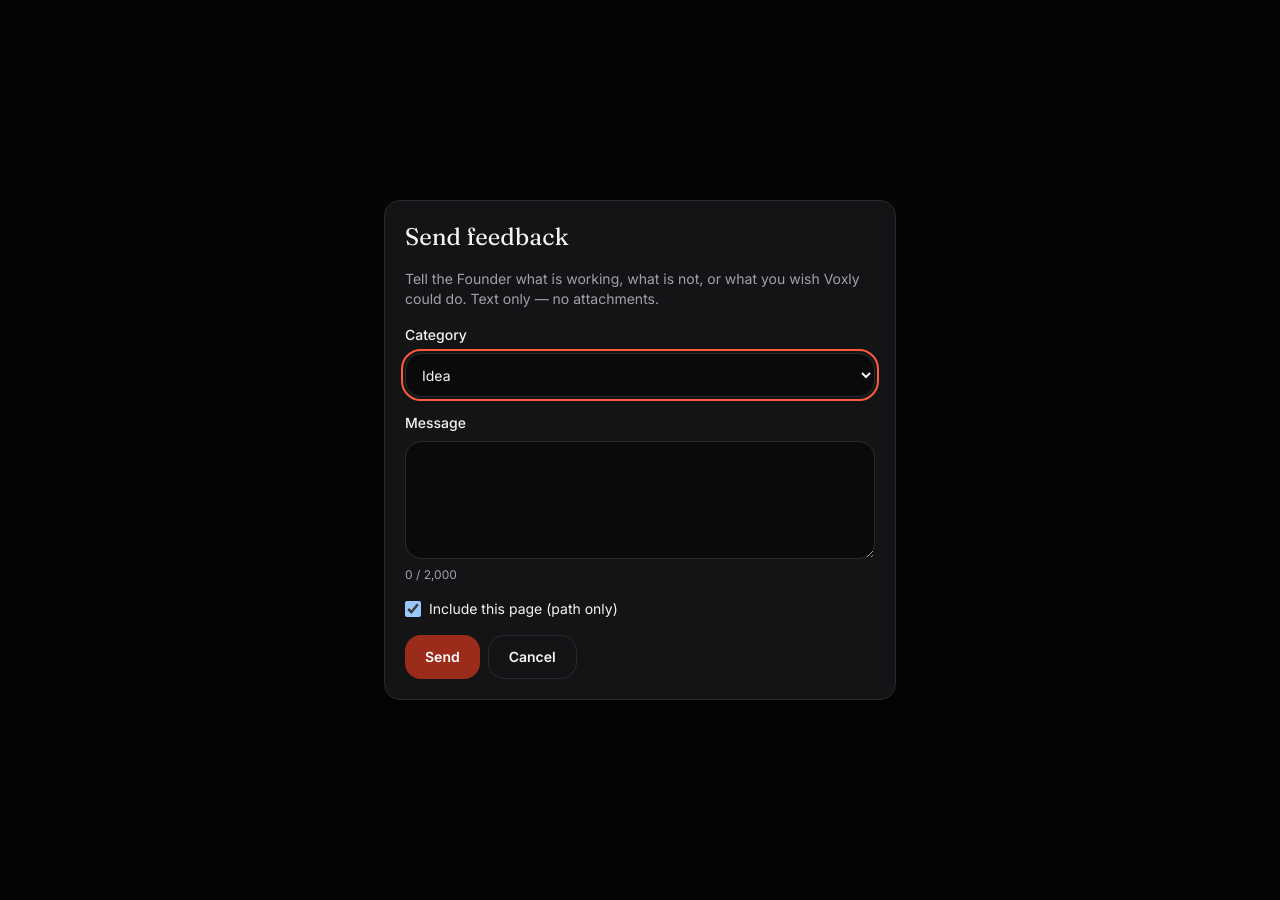
Test: FeedbackModal › shows validation for a 9-character message
Type "123456789" into the text box with test id "feedback-message".
click(640, 500); type("123456789")  # box [405,441,875,559]
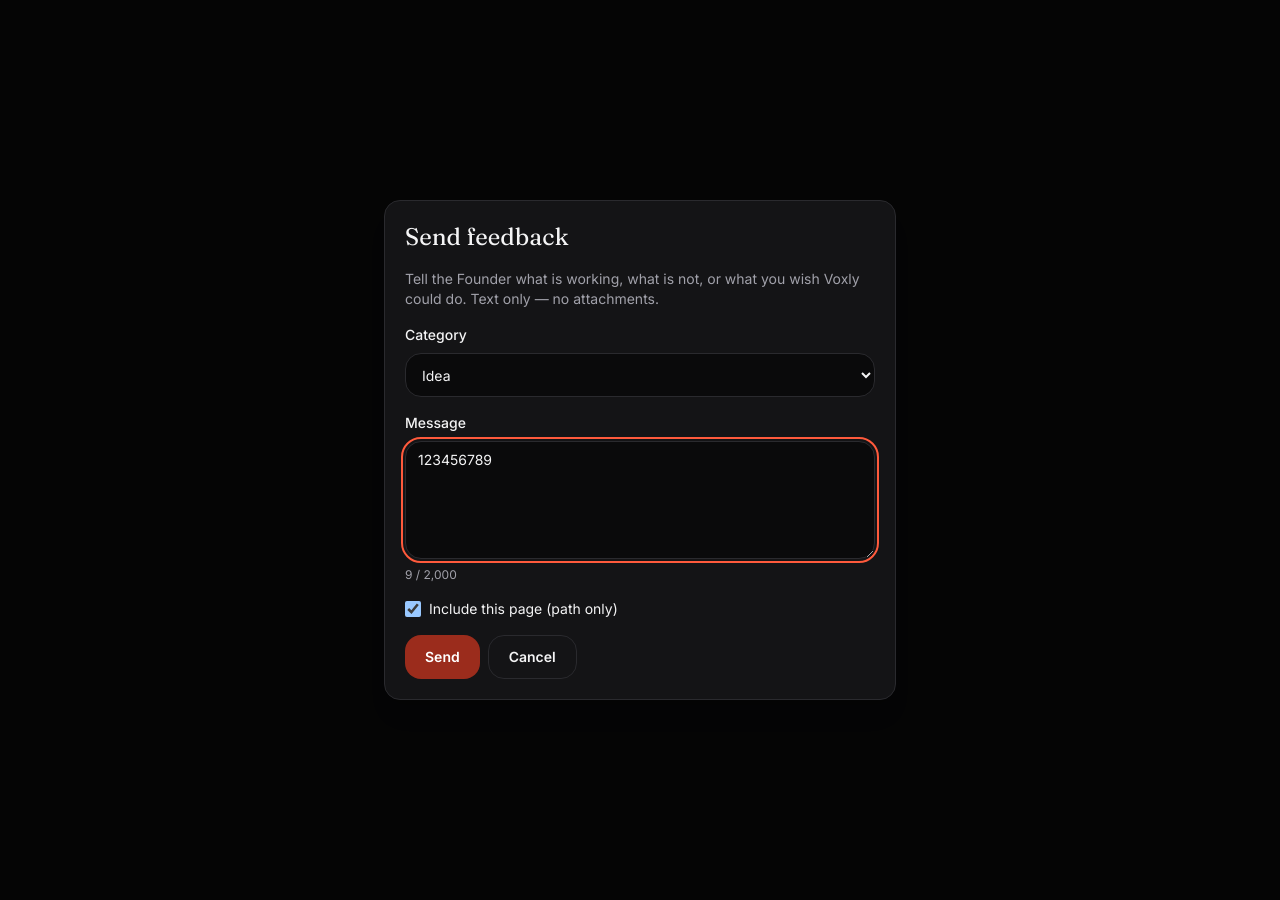
Click the button with test id "feedback-submit".
click(442, 657)  # box [405,635,480,679]
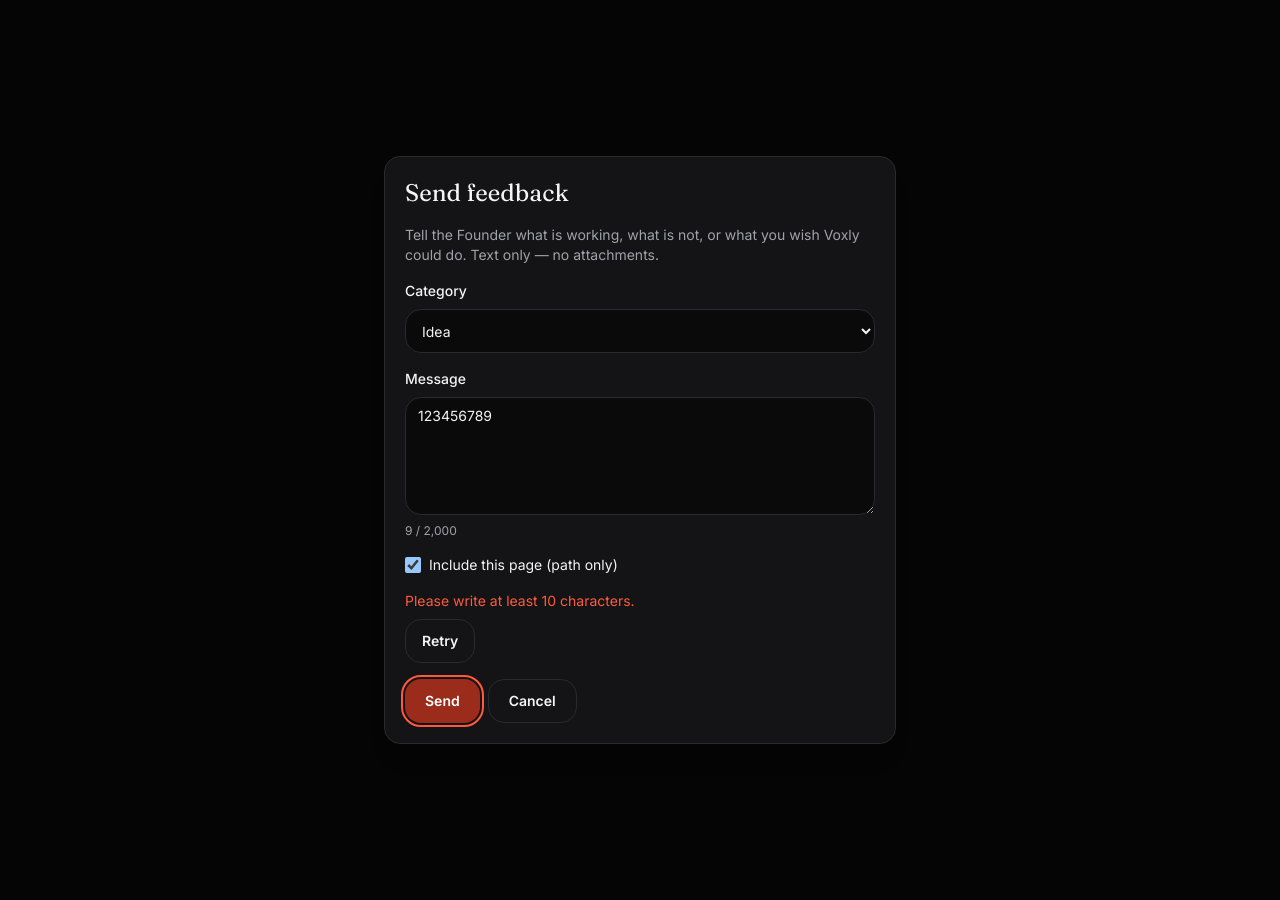
Expected: the message shows "at least 10 characters", [405,592,635,609]
